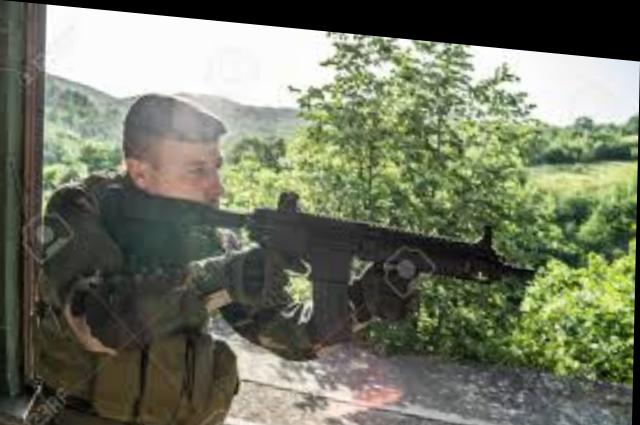other: (35, 91, 252, 424)
